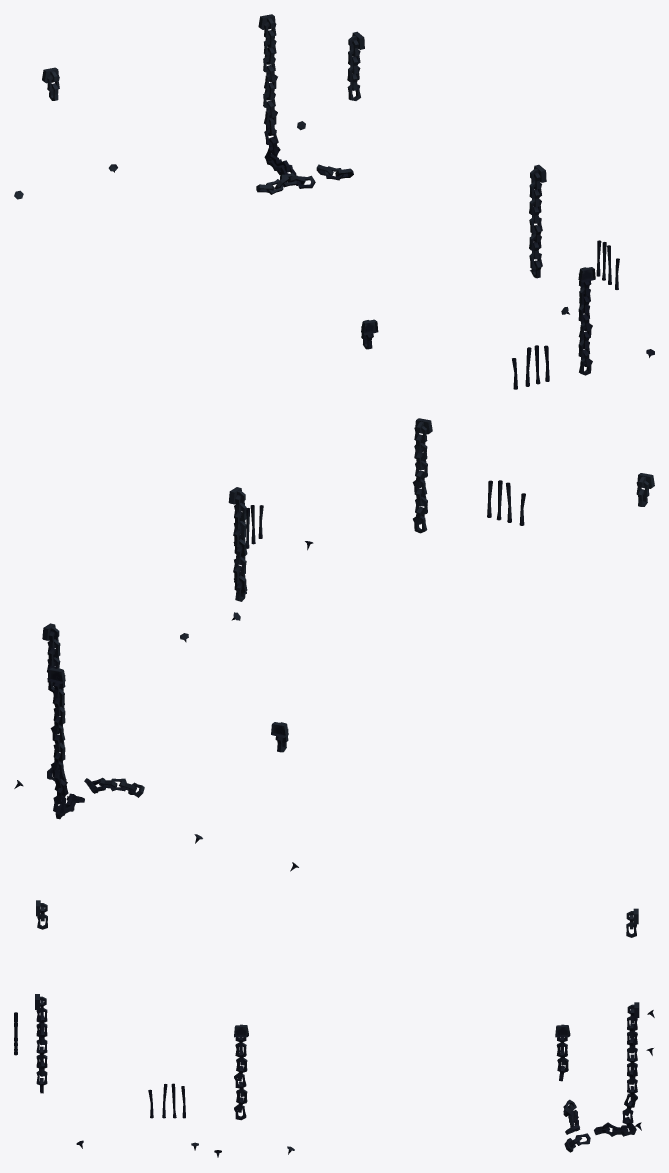
Rendered from Iron_01.FBX.
The picture shows the model from 3 angles, top to bottom: view 1: azimuth 30°, elevation 25°; view 2: azimuth 150°, elevation 25°; view 3: azimuth 270°, elevation 25°; orthographic projection. The views are drawn at different scales.
Visible parts, largest first — view 1: Iron_01; view 2: Iron_01; view 3: Iron_01.
Boxes of the visible parts, x1,y1,x2,y2 form: Iron_01: (14,14,654,389); Iron_01: (14,418,654,871); Iron_01: (14,900,654,1157).
Size of the model in its own units: 12.65 by 5.59 by 24.66.
